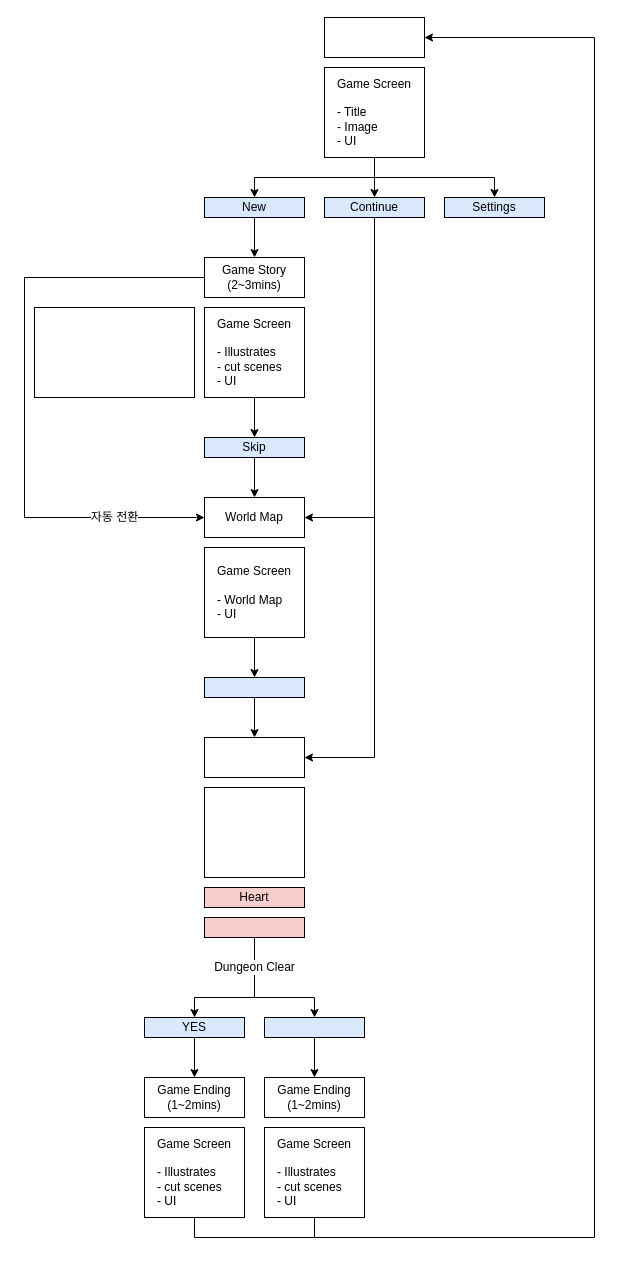
Image size: 620x1263. Some labels were removed from this diagram. The centre of each missing label's shape, as x and y in pixels:
"- 일러스트(삽화 이미지)로 게임 설정 소개 - 주인공(샤롯)이 BH 기지 가는 과정을 컷 신으로 제공" goes at point 114,352.
"Character Spot" goes at point 254,687.
"Dungeon Map" goes at point 254,757.
"Game Screen - Dungeon Map - Character - NPC - UI" goes at point 254,832.
"Game Start" goes at point 374,37.
"Mini Map" goes at point 254,927.
"NO" goes at point 314,1027.
